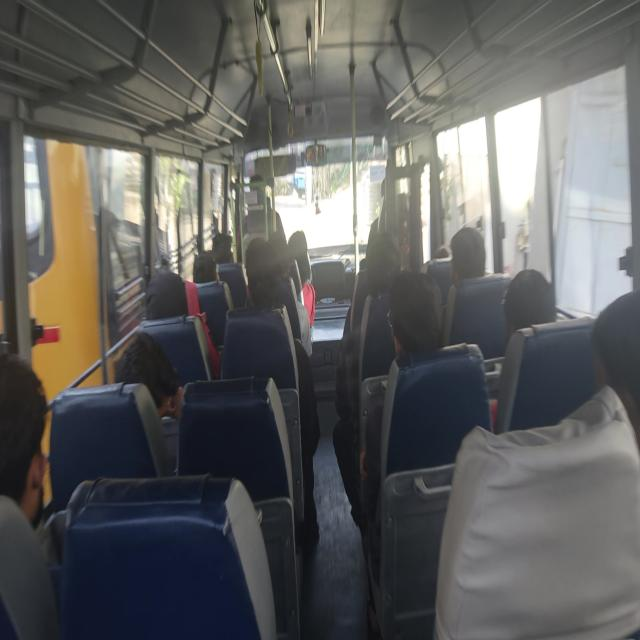person: (384, 274, 484, 418), (0, 342, 50, 583), (578, 294, 640, 403), (114, 334, 180, 420), (498, 270, 554, 344), (135, 261, 200, 311), (243, 263, 300, 307), (453, 232, 491, 289), (210, 231, 248, 285), (363, 229, 399, 280), (193, 246, 226, 294), (243, 232, 284, 268), (260, 222, 298, 255)
